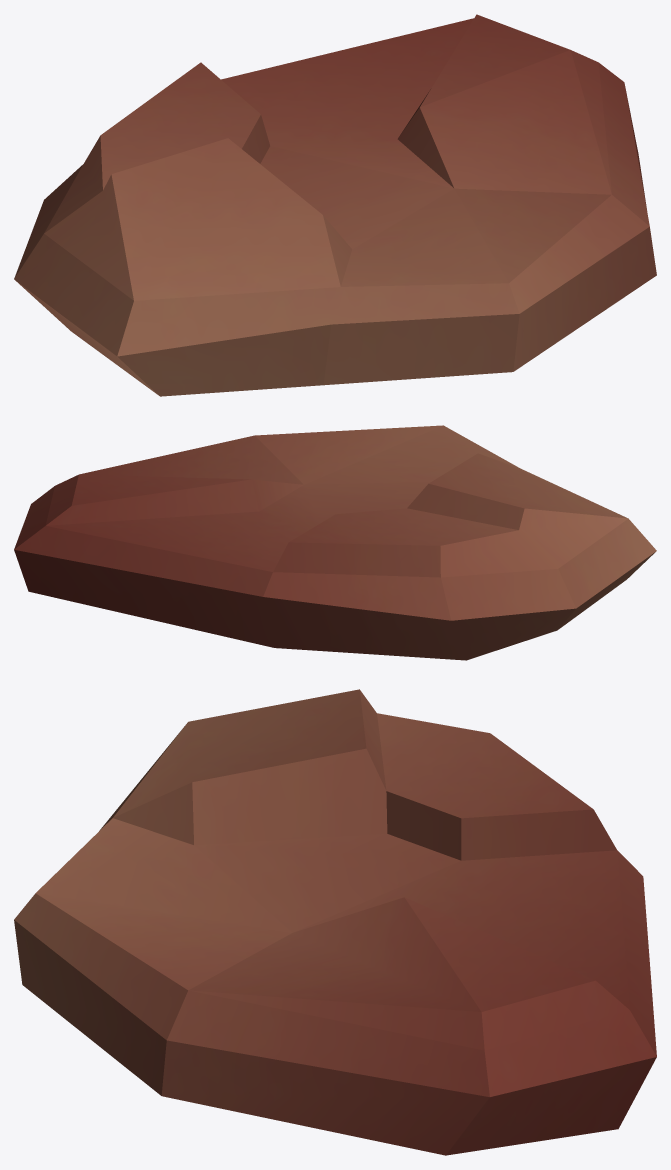
The model's file is flat_rock_dry.FBX.
3 renders of one model, top to bottom at view 1: azimuth 30°, elevation 25°; view 2: azimuth 150°, elevation 25°; view 3: azimuth 270°, elevation 25°, orthographic. The views are drawn at different scales.
Visible parts, largest first — view 1: dry_flat_rock; view 2: dry_flat_rock; view 3: dry_flat_rock.
Part boxes in pixels (<box>): dry_flat_rock: <box>14,14,656,396</box>; dry_flat_rock: <box>14,425,656,660</box>; dry_flat_rock: <box>14,689,656,1155</box>.
Bounding box in the file's own units: 7 × 1.55 × 5.41.
